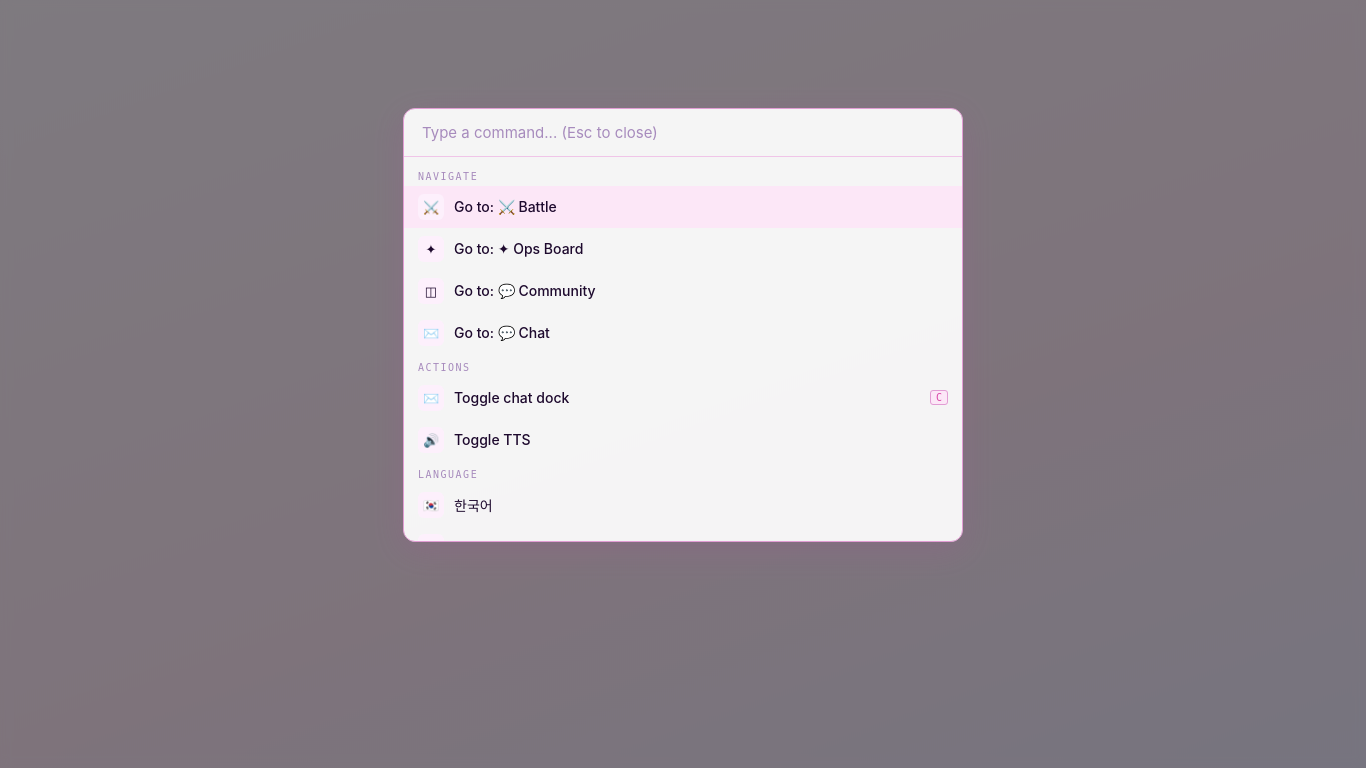
Scenario: CommandPalette — 명령 카탈로그 + role 분기 › 검색 결과 0개 → cmdk-empty 메시지 표시
Type "xyzzy_no_match_query" into the field with class "cmdk-input" at point(683, 132), box [404,108,962,156]
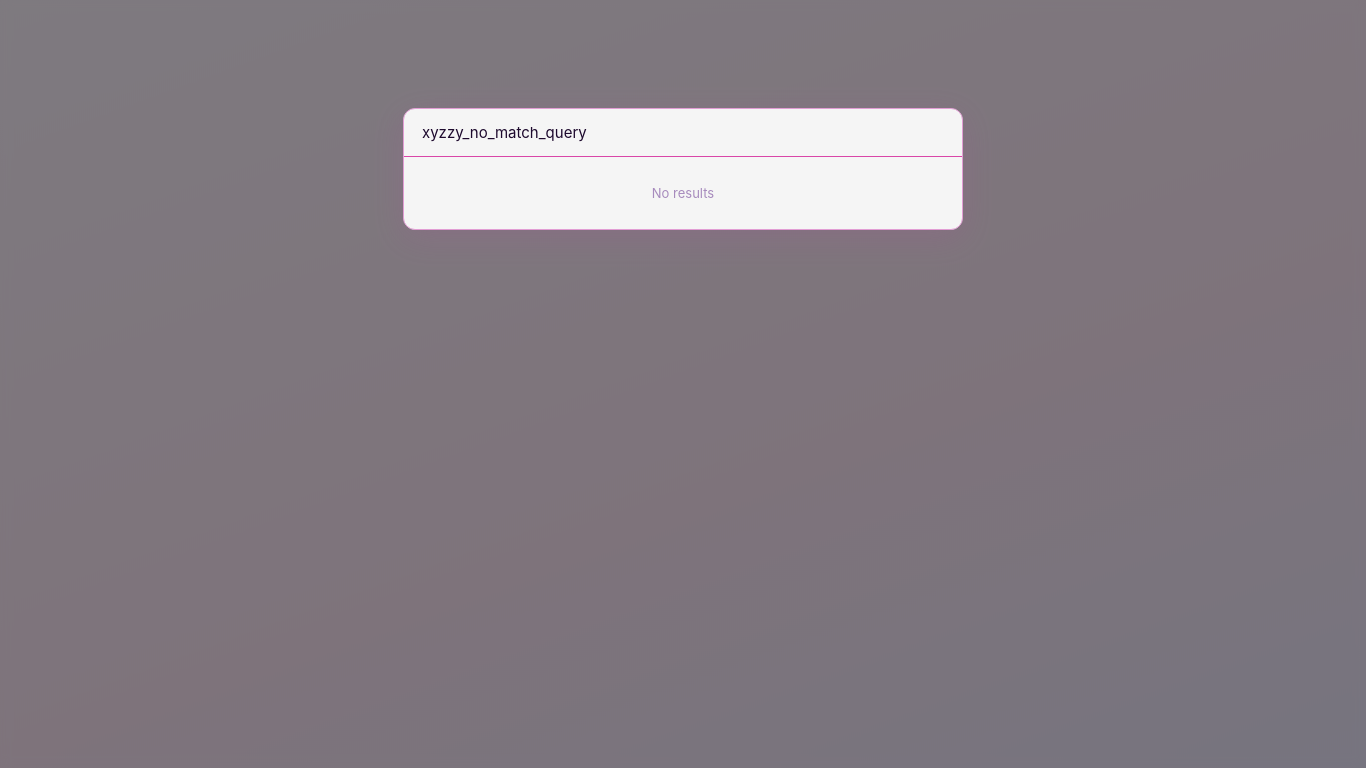
Check: the text "No results" is shown, box [652,184,714,200]
Check: no options with class "cmdk-item" are shown
